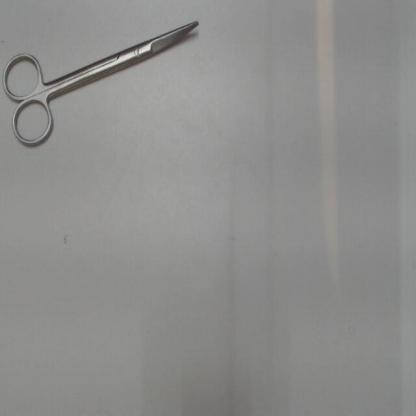Curved Mayo Scissors: (2, 14, 207, 161)
